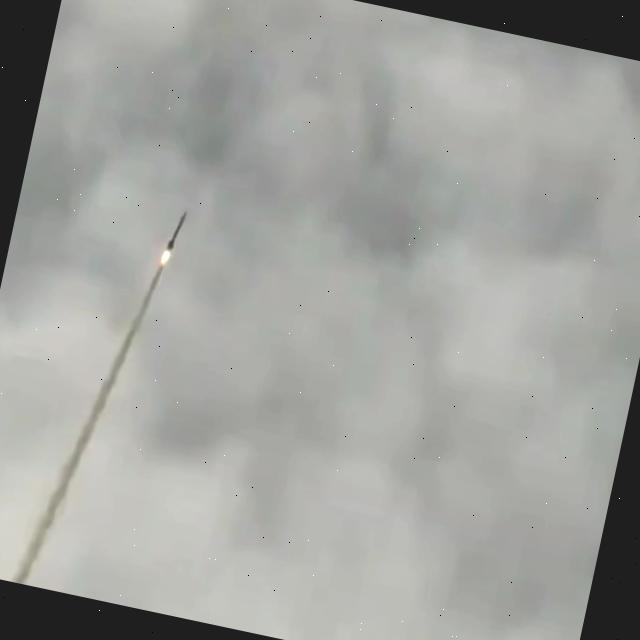smoke_trail_with_rocket: (10, 213, 186, 584)
